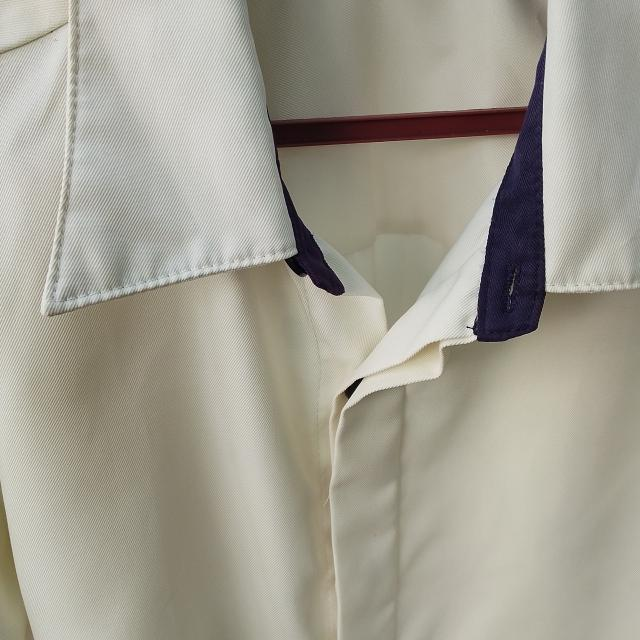education_male_uniform: (0, 0, 539, 481), (0, 265, 195, 640), (549, 0, 640, 527)
